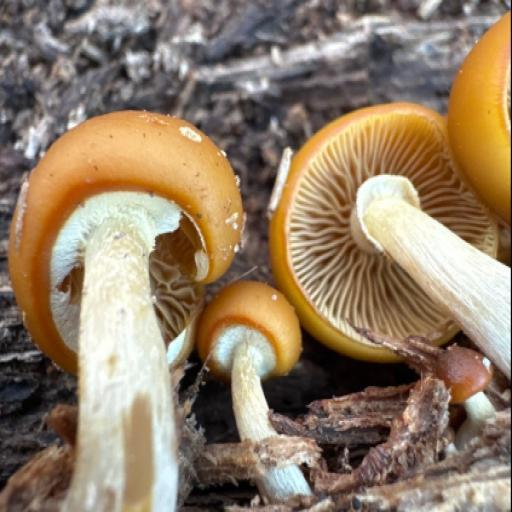mushroom: (5, 102, 512, 471)
